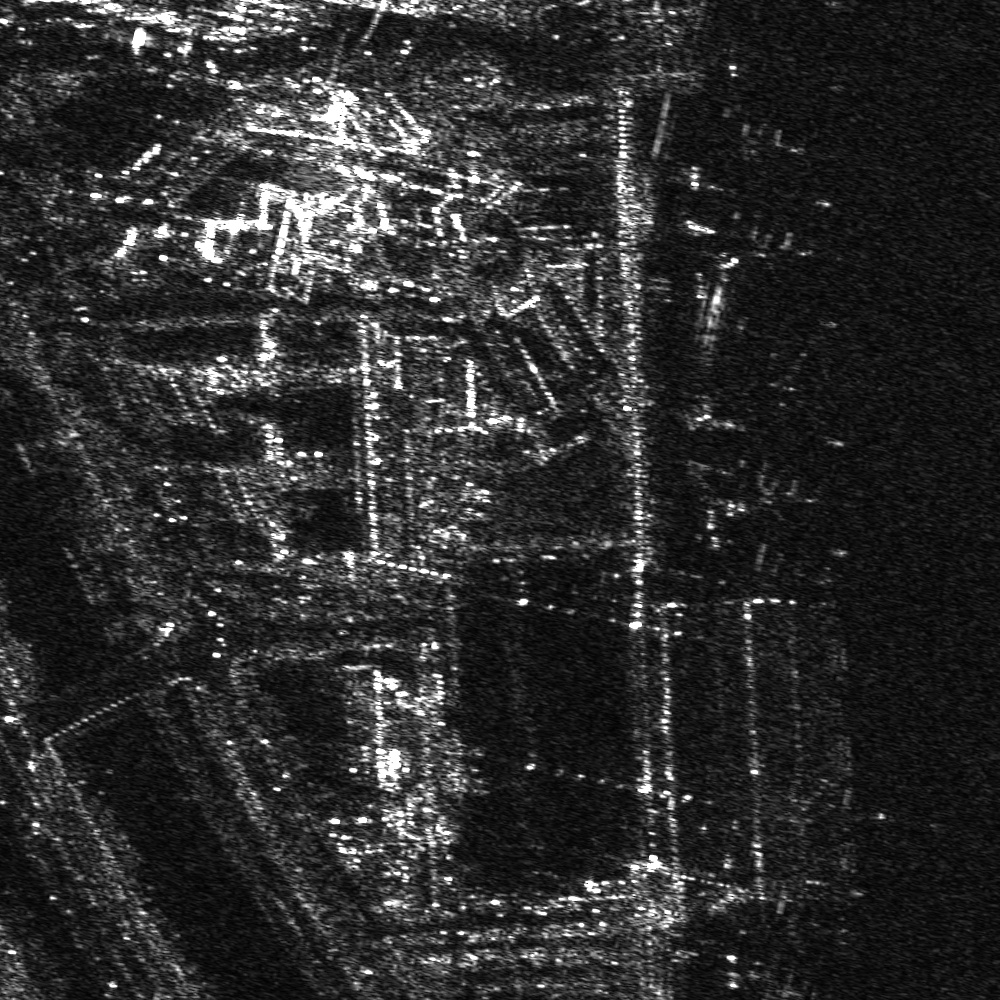A220: (721, 223, 819, 288), (728, 465, 821, 531)
